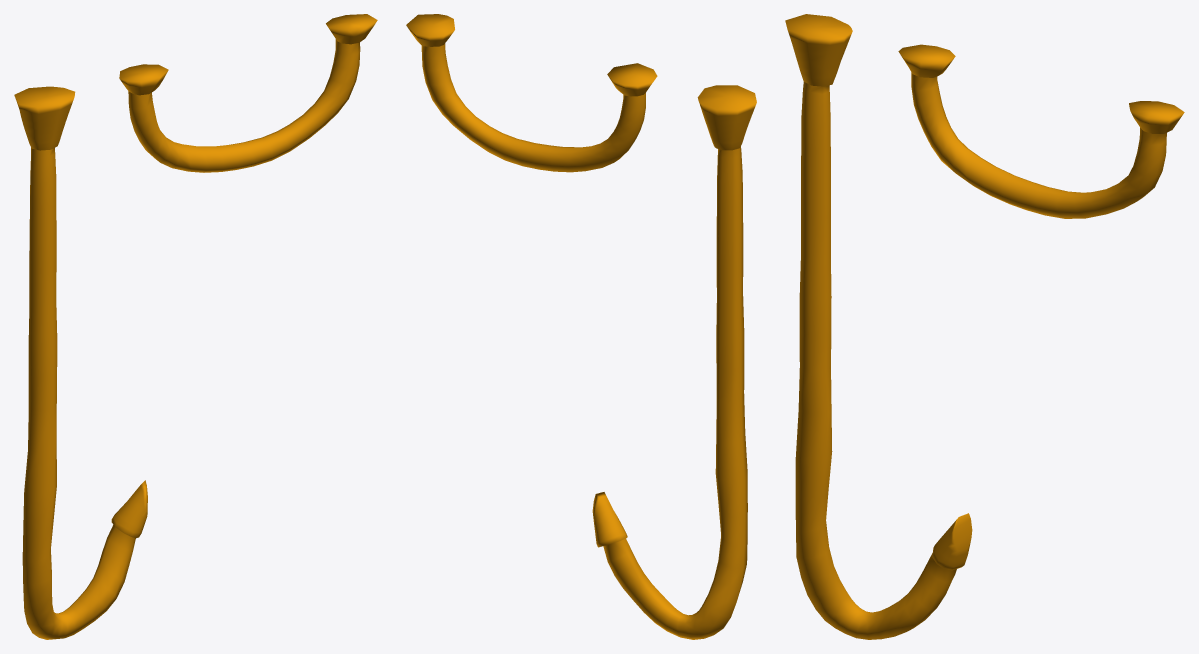
Rendered from leftSideWires.fbx.
The picture shows the model from 3 angles, left to right: view 1: azimuth 30°, elevation 25°; view 2: azimuth 150°, elevation 25°; view 3: azimuth 330°, elevation 25°; orthographic projection. The views are drawn at different scales.
Visible parts, largest first — view 1: leftSideWires; view 2: leftSideWires; view 3: leftSideWires.
Boxes of the visible parts, left/top/right/bottom form: leftSideWires: left=14, top=14, right=377, bottom=639; leftSideWires: left=406, top=14, right=756, bottom=639; leftSideWires: left=785, top=14, right=1184, bottom=639.
Size of the model in its own units: 73.33 by 110 by 14.64.
